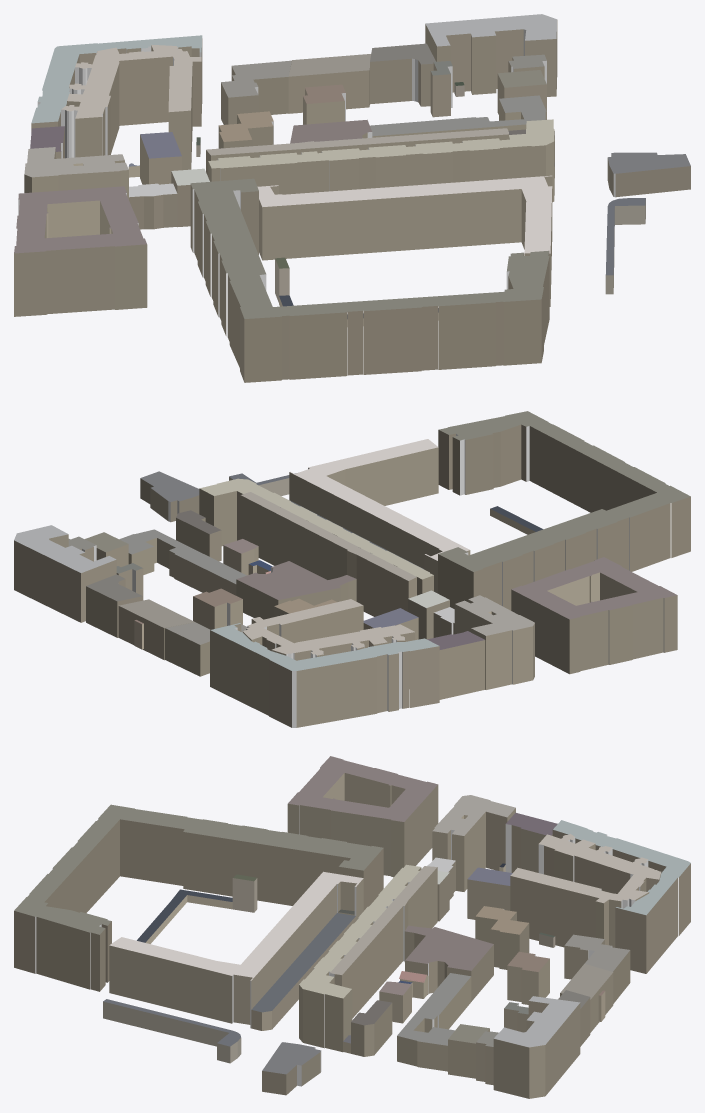
The picture shows the model from 3 angles, top to bottom: view 1: azimuth 30°, elevation 25°; view 2: azimuth 150°, elevation 25°; view 3: azimuth 270°, elevation 25°; orthographic projection. The views are drawn at different scales.
Parts seen in each view (by area): view 1: tuile; view 2: tuile; view 3: tuile.
Boxes of the visible parts, box(x1,y1,x2,y2) form: tuile: box(14, 14, 690, 382); tuile: box(14, 411, 690, 727); tuile: box(14, 756, 690, 1098).
Bounding box in the file's own units: 303 × 29.88 × 304.
